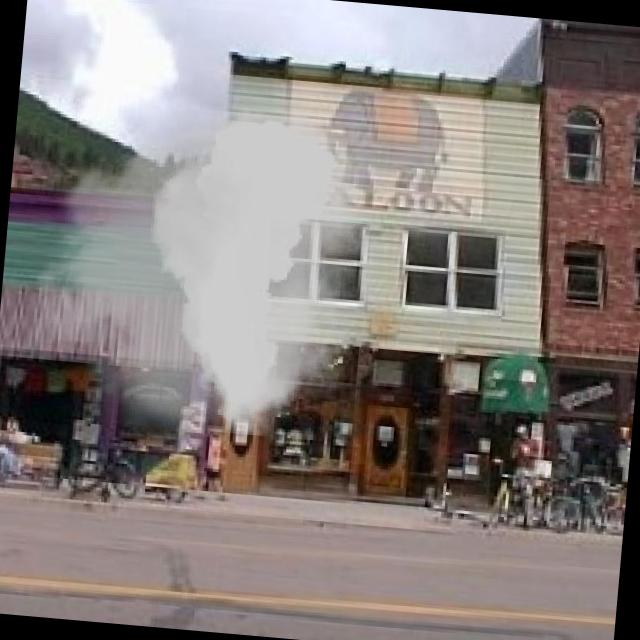Smoke: (0, 74, 402, 468)
